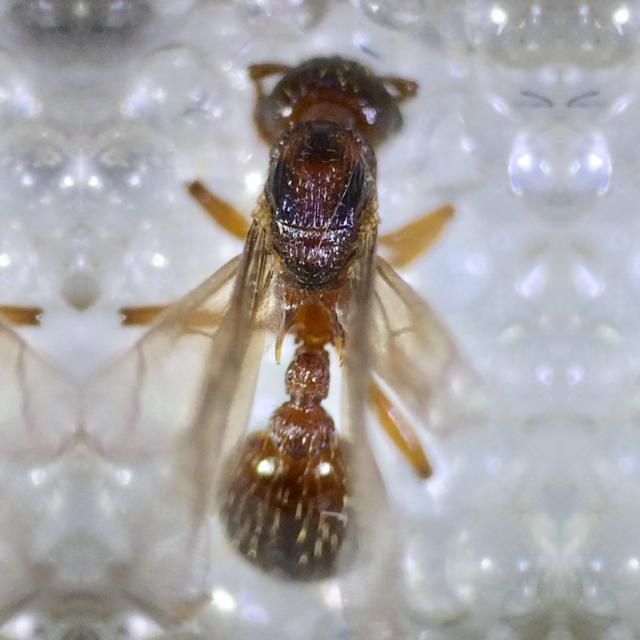Myrmica: (119, 14, 522, 572)
